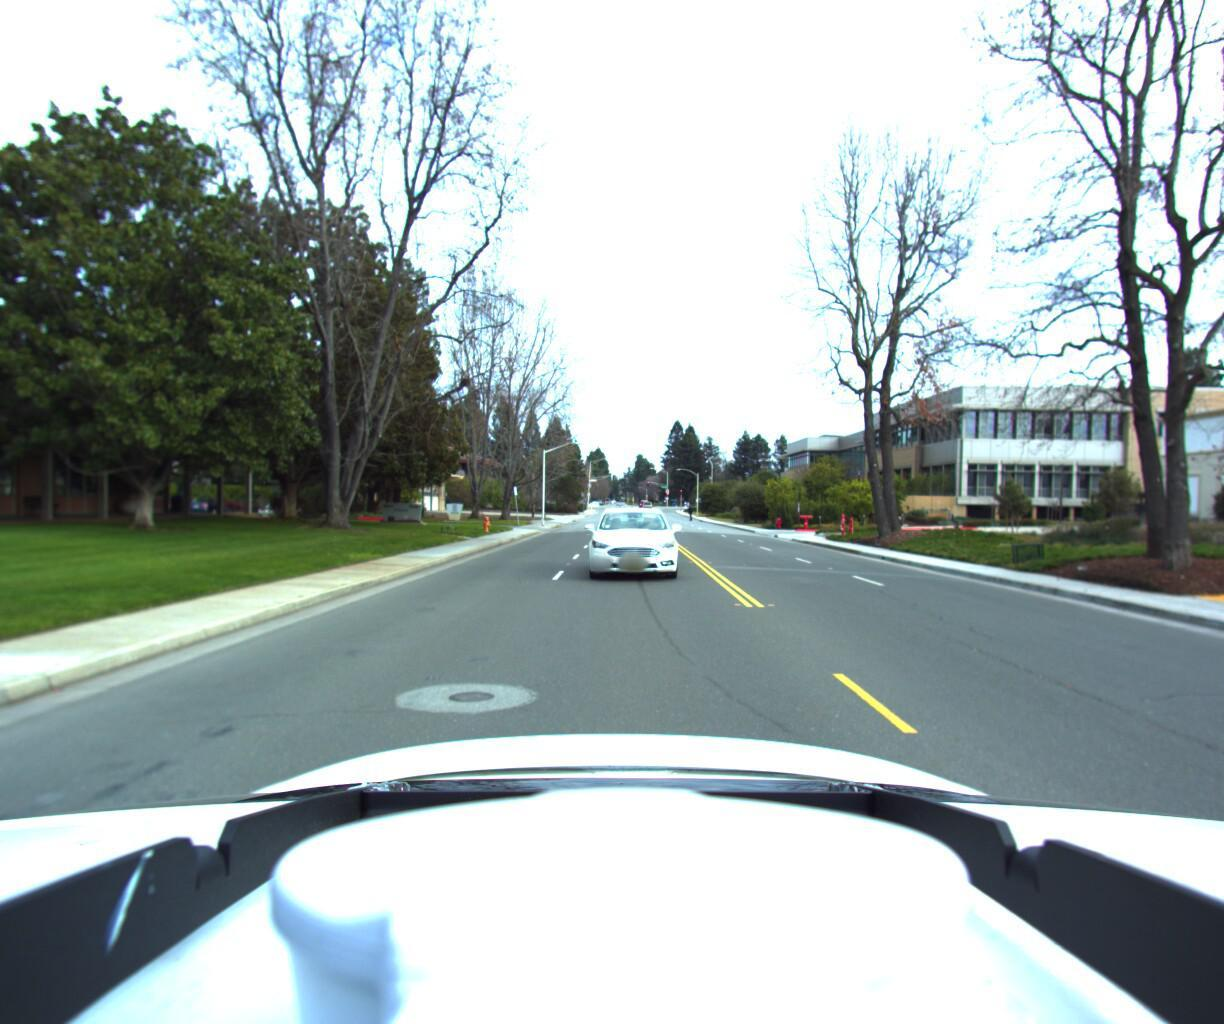car: (582, 504, 682, 586)
